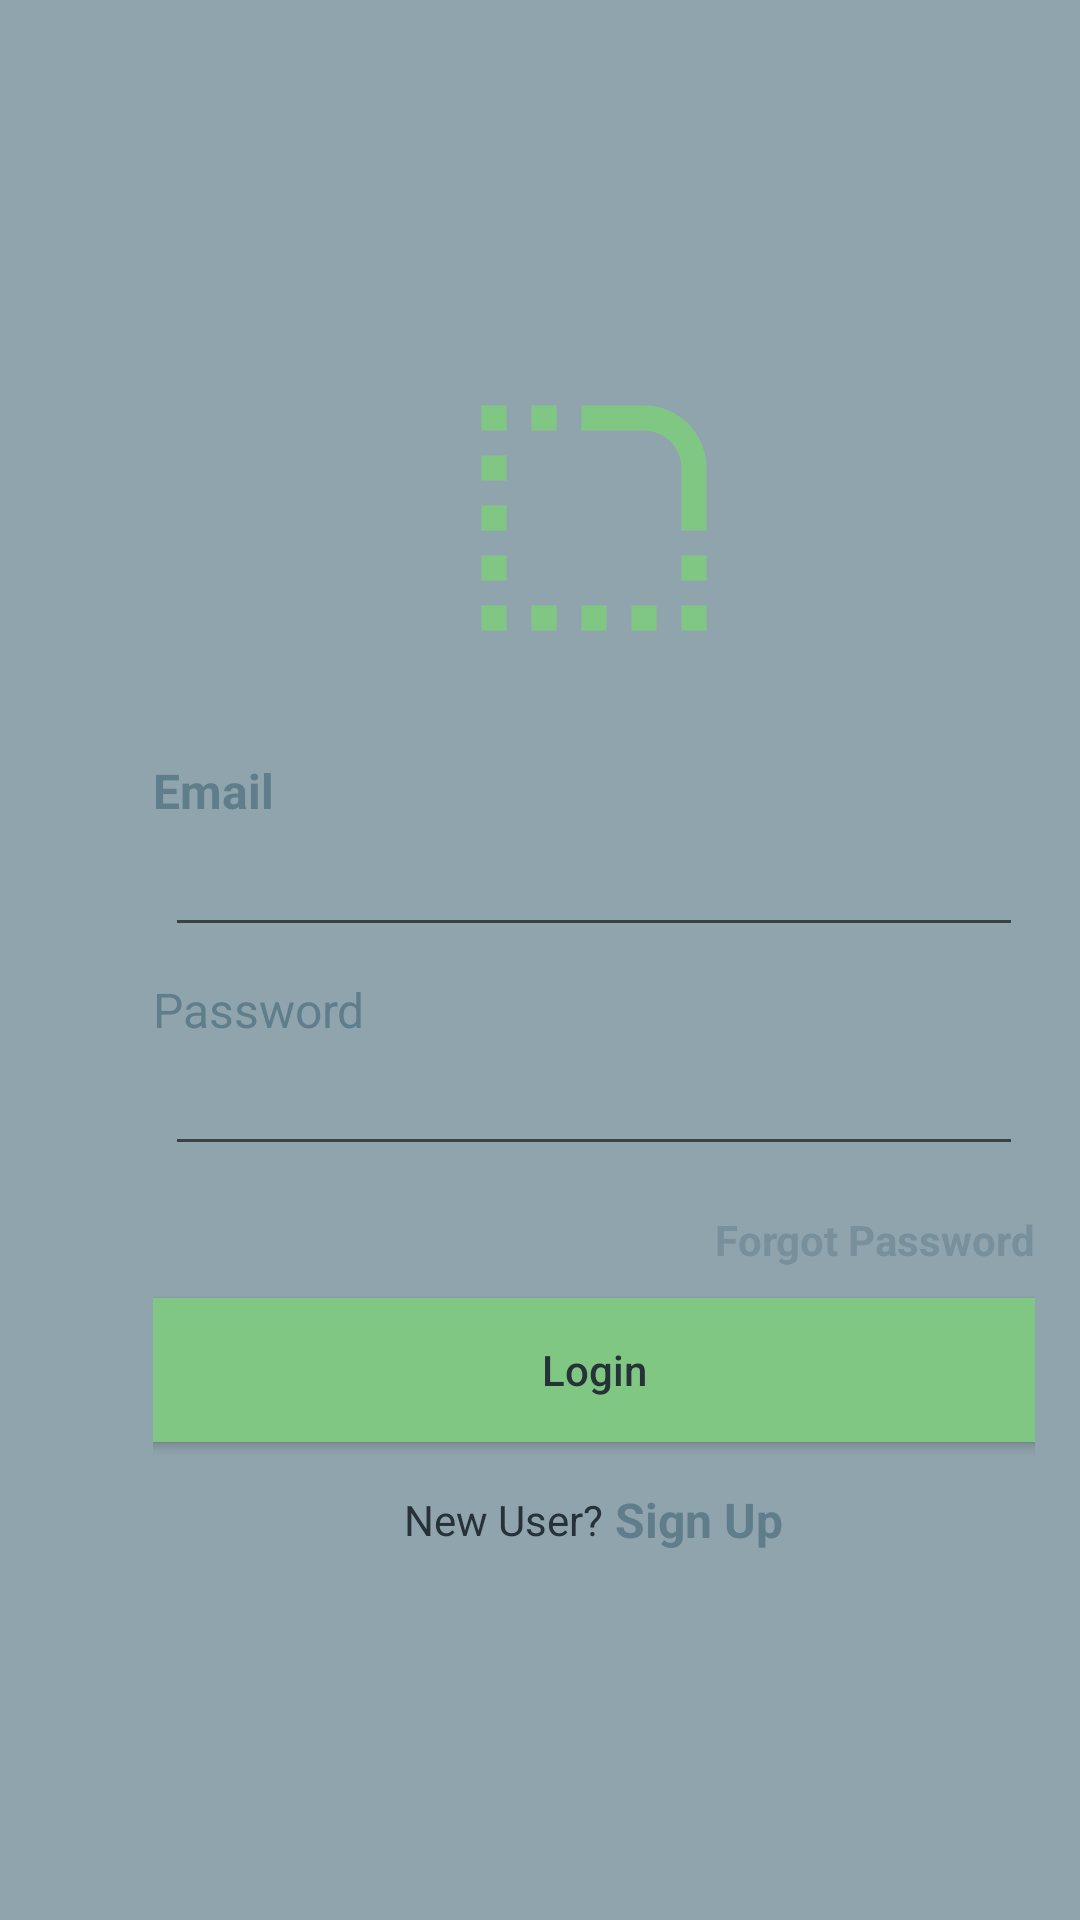

Named icons in this screenshot (1080px×1920px) and their bounding boxes, Rect(x1, y1, x2, y2):
corner: Rect(482, 406, 706, 630)
